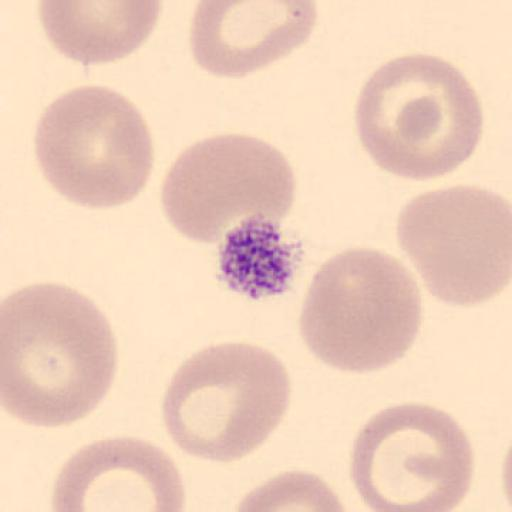Platelet: (215, 213, 307, 302)
RBC: (0, 280, 118, 428), (352, 52, 483, 184), (297, 245, 424, 376), (162, 339, 293, 464), (159, 132, 300, 246), (33, 84, 156, 212), (395, 182, 511, 309), (349, 400, 475, 512), (48, 434, 188, 512), (383, 76, 485, 182), (187, 0, 319, 80), (35, 0, 163, 66), (228, 468, 351, 512), (499, 431, 512, 511)
